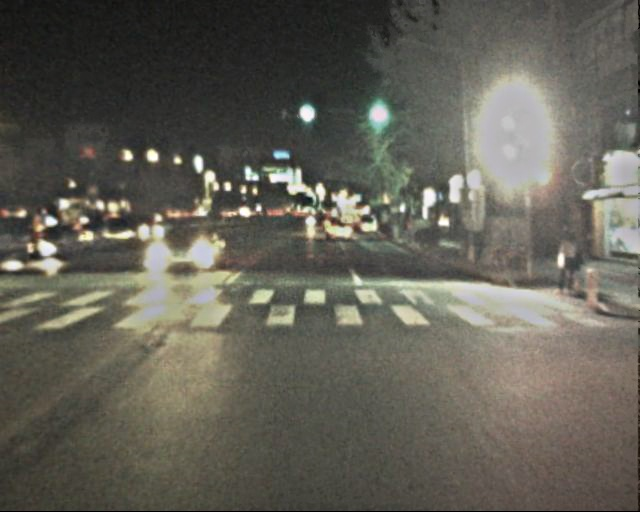person: (553, 225, 582, 294)
